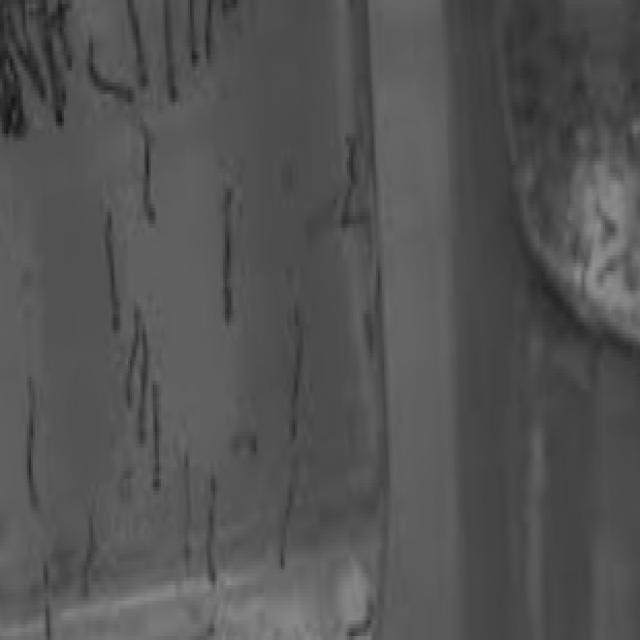larvas: (33, 0, 66, 133), (5, 15, 47, 108), (88, 37, 135, 107), (124, 0, 154, 98), (40, 0, 67, 107), (24, 377, 40, 507), (102, 209, 119, 330), (159, 0, 179, 102), (287, 309, 303, 436), (18, 1, 43, 82), (52, 0, 78, 77), (221, 186, 236, 318), (138, 119, 156, 226), (279, 470, 298, 568), (137, 328, 151, 449), (125, 304, 140, 406), (302, 198, 340, 236), (347, 131, 370, 190), (342, 199, 372, 242), (151, 378, 162, 491), (83, 500, 96, 593), (207, 476, 217, 586), (184, 444, 192, 576), (186, 0, 200, 70), (354, 80, 371, 136), (39, 557, 49, 640), (176, 583, 197, 622), (346, 609, 374, 638), (203, 0, 215, 64), (229, 430, 256, 458), (208, 592, 222, 638), (119, 466, 134, 501), (31, 8, 59, 26), (1, 47, 14, 81), (10, 97, 22, 132), (365, 309, 374, 348), (222, 0, 237, 19)
